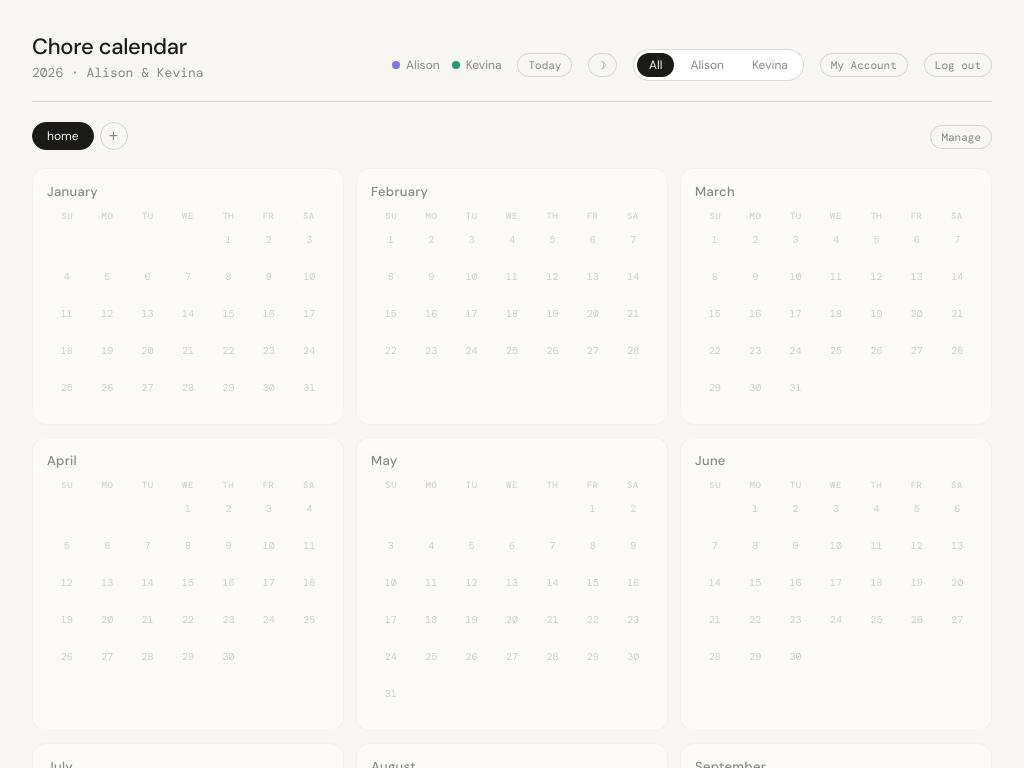
Test: App › opens manage panel when Manage button is clicked
Expected: the text "January" is shown, x1=47 y1=183 x2=98 y2=200
Click the button with aria-label "Manage group". click: (961, 137)
box: x1=930 y1=125 x2=992 y2=149
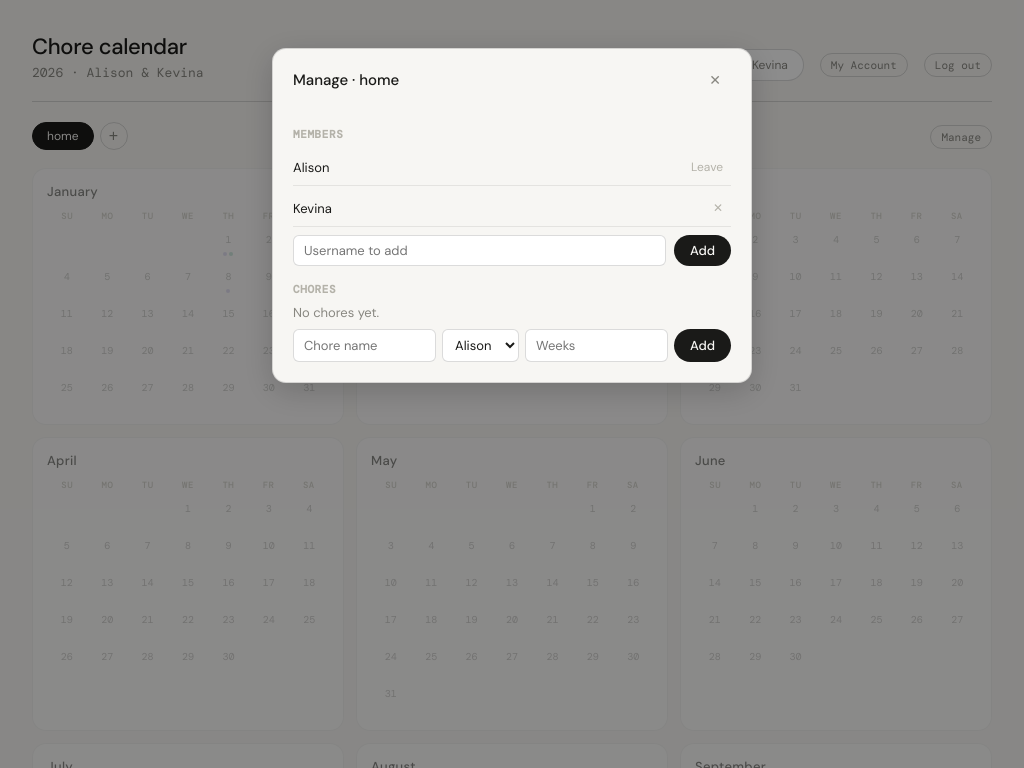
Expected: the dialog named "Manage group" is shown
